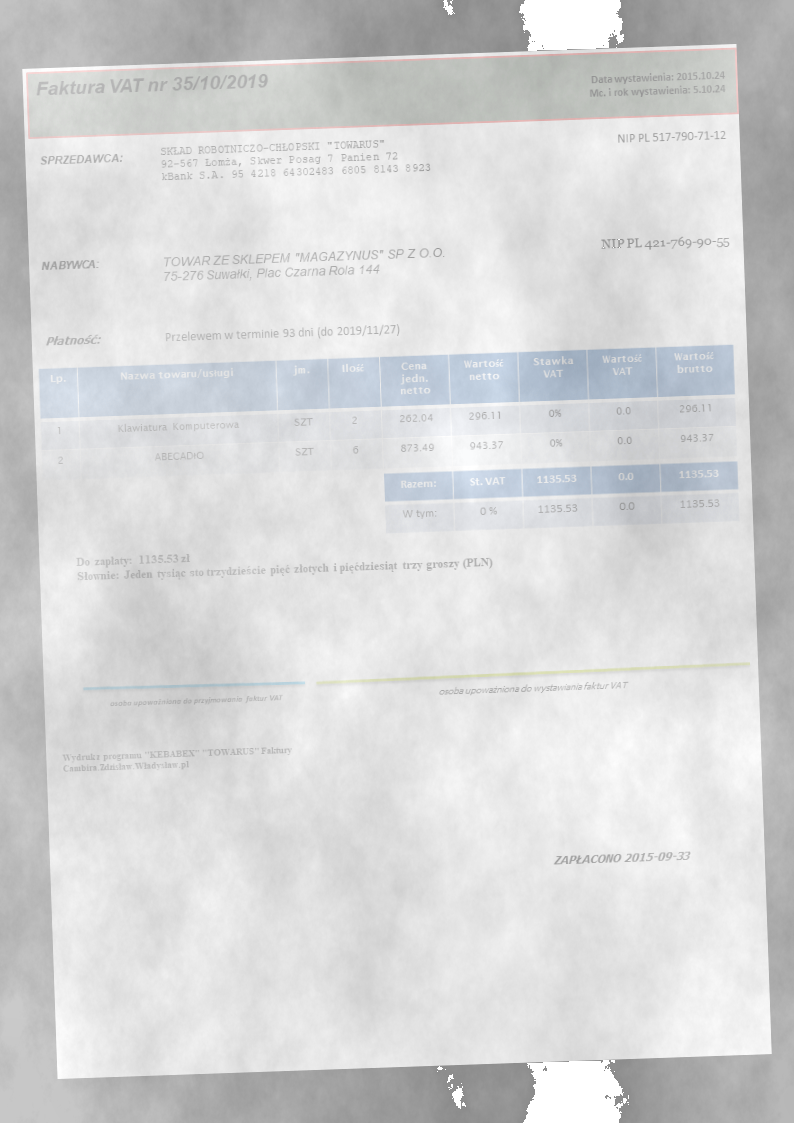Table: (37, 343, 738, 482), (382, 459, 741, 534)
TextBox: (73, 539, 496, 586), (157, 135, 432, 183), (160, 244, 451, 285), (59, 743, 296, 775), (33, 70, 271, 99), (163, 321, 400, 344), (586, 69, 728, 100), (436, 678, 632, 697), (599, 231, 732, 254), (107, 692, 285, 709), (551, 847, 692, 867), (614, 126, 728, 146), (38, 150, 125, 168), (39, 256, 100, 274), (44, 332, 103, 348)
